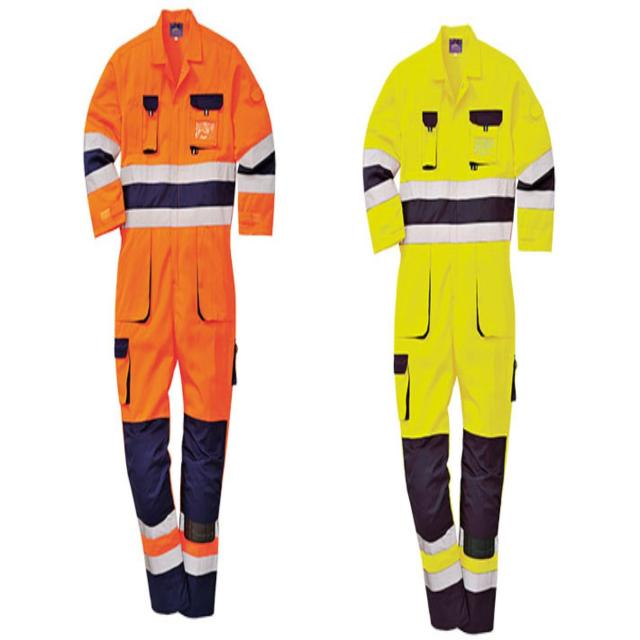vest: (358, 23, 556, 630), (80, 11, 273, 616)
